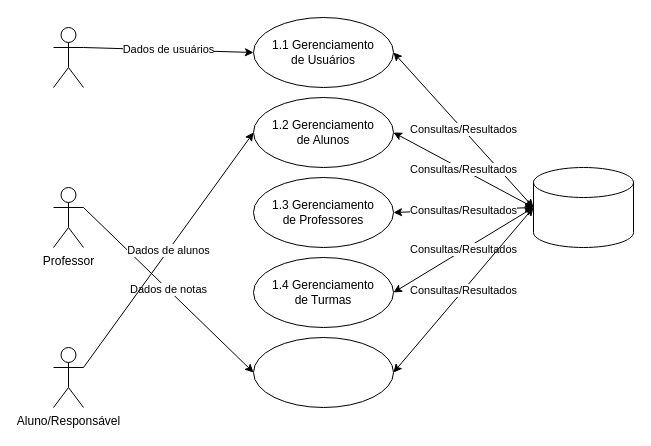
Some shapes in this 651 by 446 pixel diagram are drawn without their labels. Here are the shapes that lost their labels. From the top down, the box of each, then its label:
(52, 26, 84, 88): Administrador
(532, 166, 634, 248): Banco de Dados MySQL
(252, 336, 394, 408): 1.8 Gerenciamento de Notas
